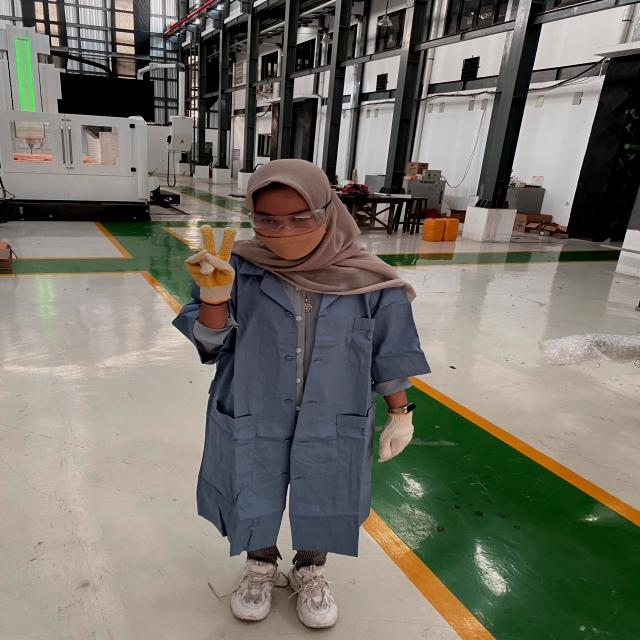face_mask: (251, 206, 324, 265)
glasses: (245, 195, 335, 235)
hand_glove: (178, 225, 246, 296), (372, 410, 421, 460)
head_nohelmet: (246, 155, 330, 201)
person: (166, 155, 439, 640)
shoes: (278, 555, 341, 639), (222, 550, 287, 624)
